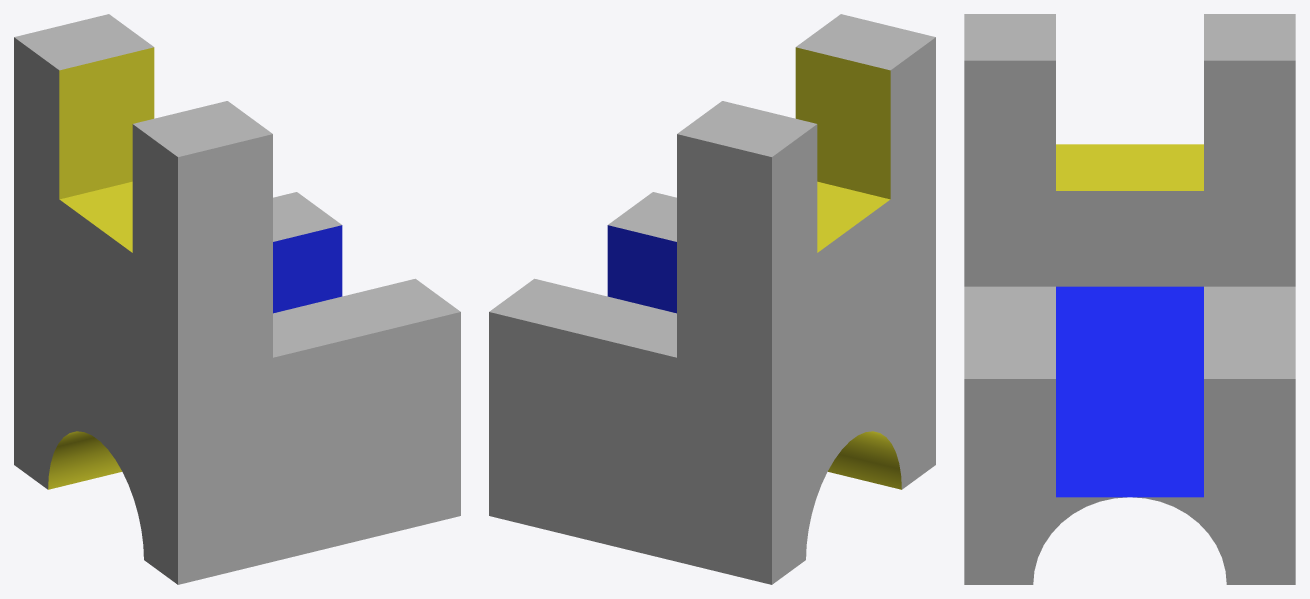
3 renders of one model, left to right at view 1: azimuth 30°, elevation 25°; view 2: azimuth 150°, elevation 25°; view 3: azimuth 270°, elevation 25°, orthographic.
Visible parts, largest first — view 1: Solid3; view 2: Solid3; view 3: Solid3.
Part boxes in pixels (x1,y1,x2,y2): Solid3: (14,14,460,584); Solid3: (489,14,935,584); Solid3: (964,14,1295,584).
Size of the model in its own units: 0.0647 by 0.0935 by 0.065.
